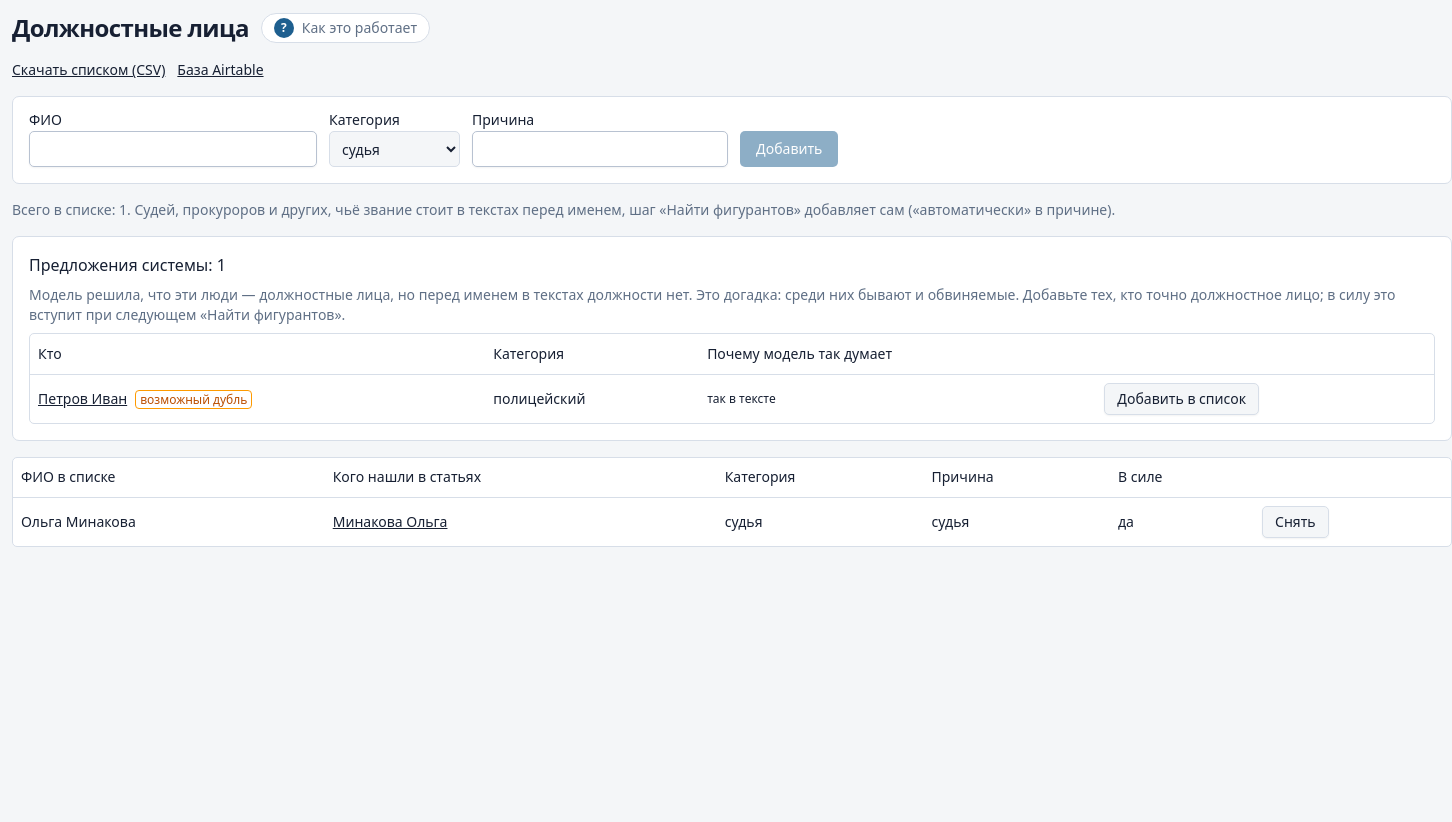
Test: adds a person with a category and a reason, and says a repeat
Type "Ольга Минакова" into the field labelled "ФИО" at (173, 149), box [29, 131, 317, 167]
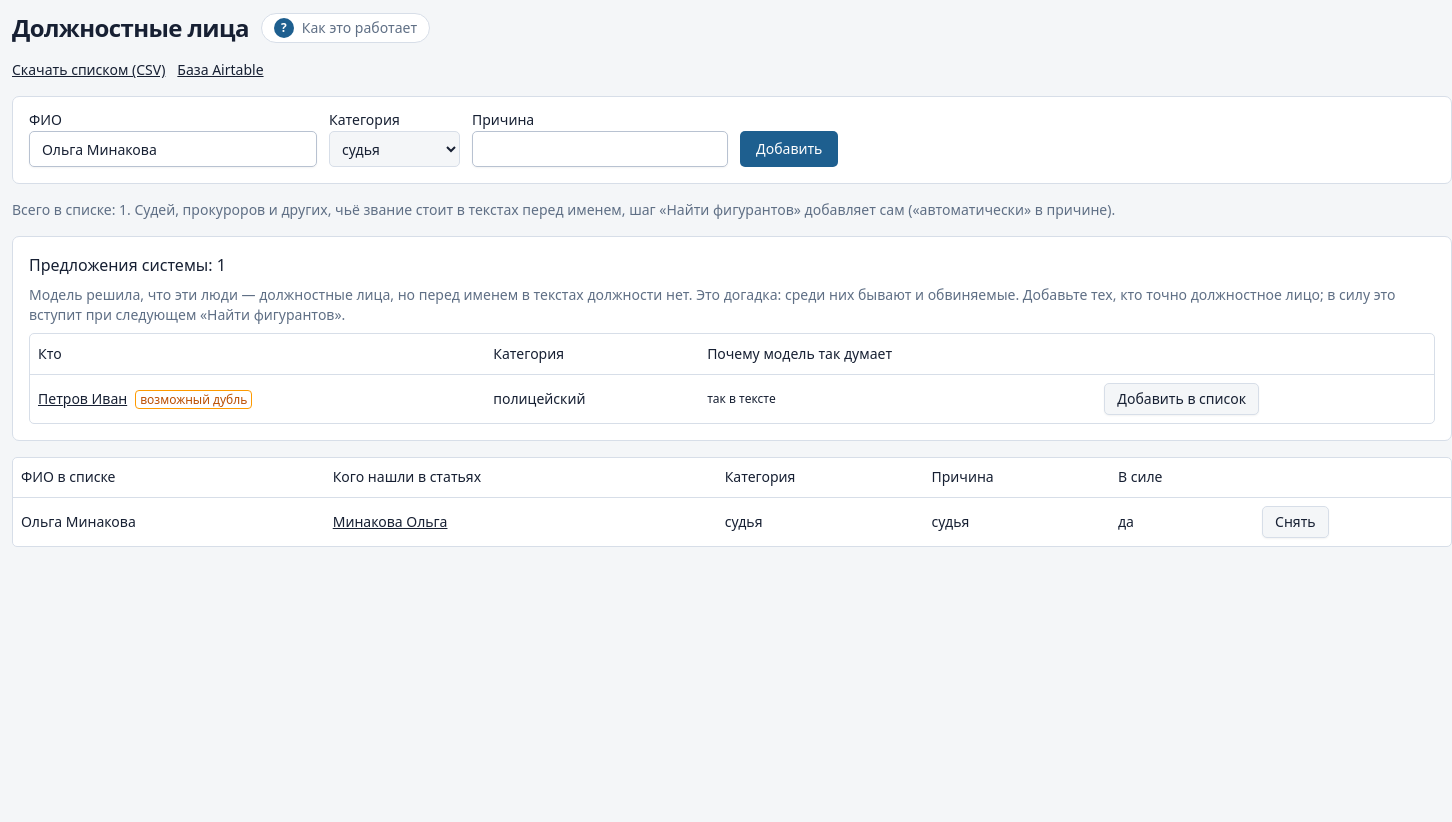
Select "полицейский" in the dropdown labelled "Категория" at (394, 149), box [329, 131, 460, 167]
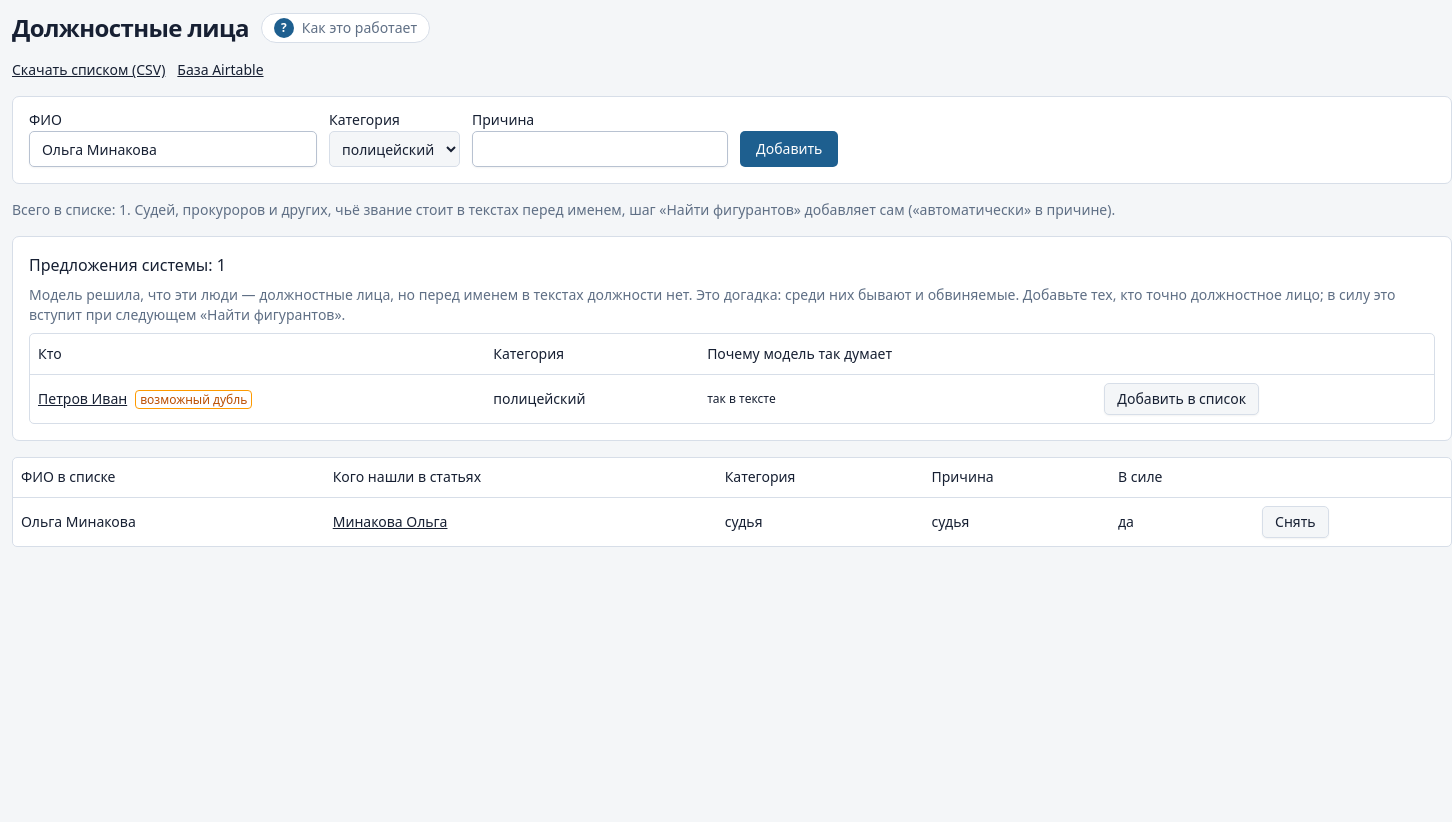
Type "следователь" into the field labelled "Причина" at (600, 149), box [472, 131, 728, 167]
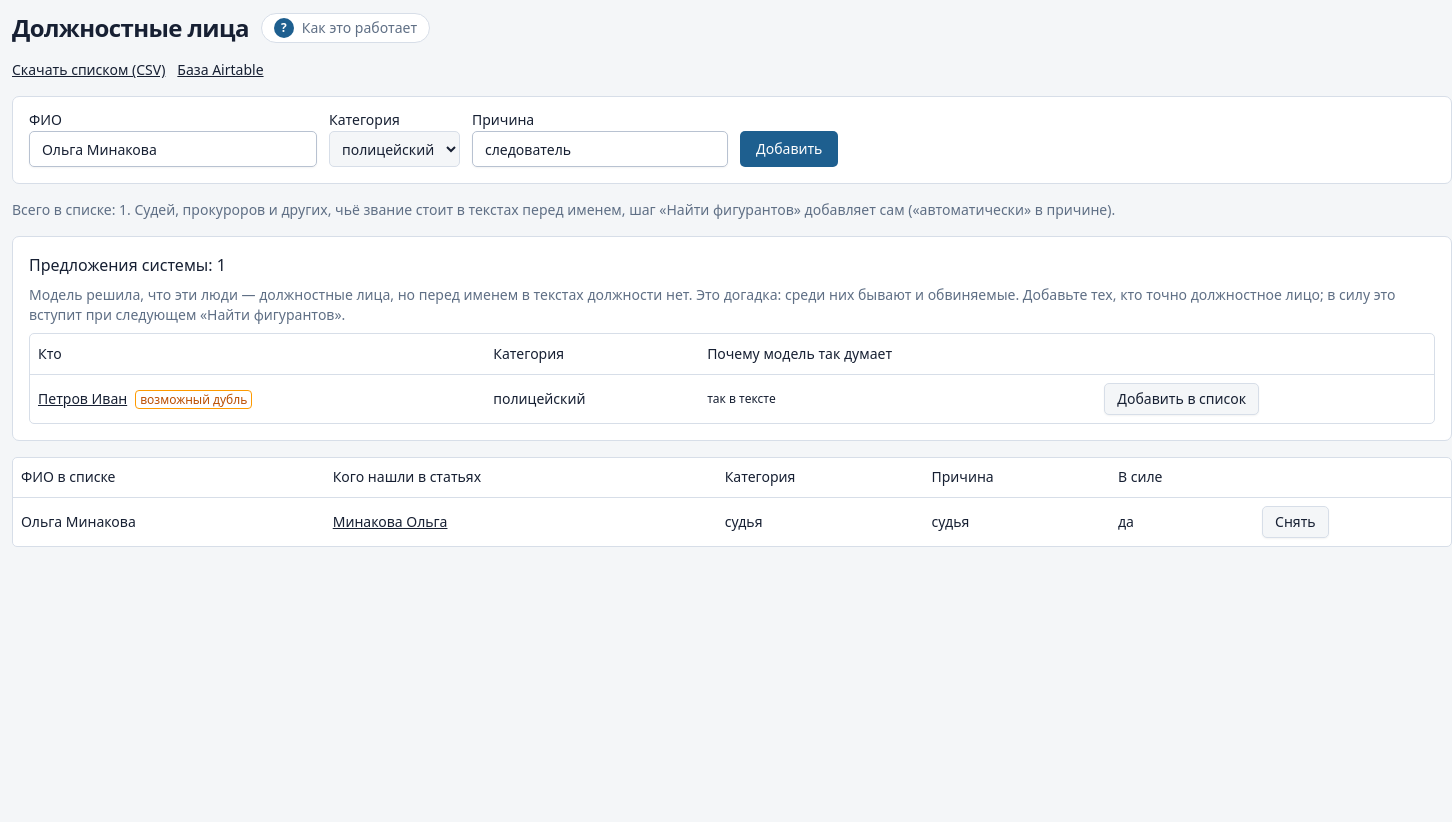
Click the button "Добавить" at (789, 149), box [740, 131, 838, 167]
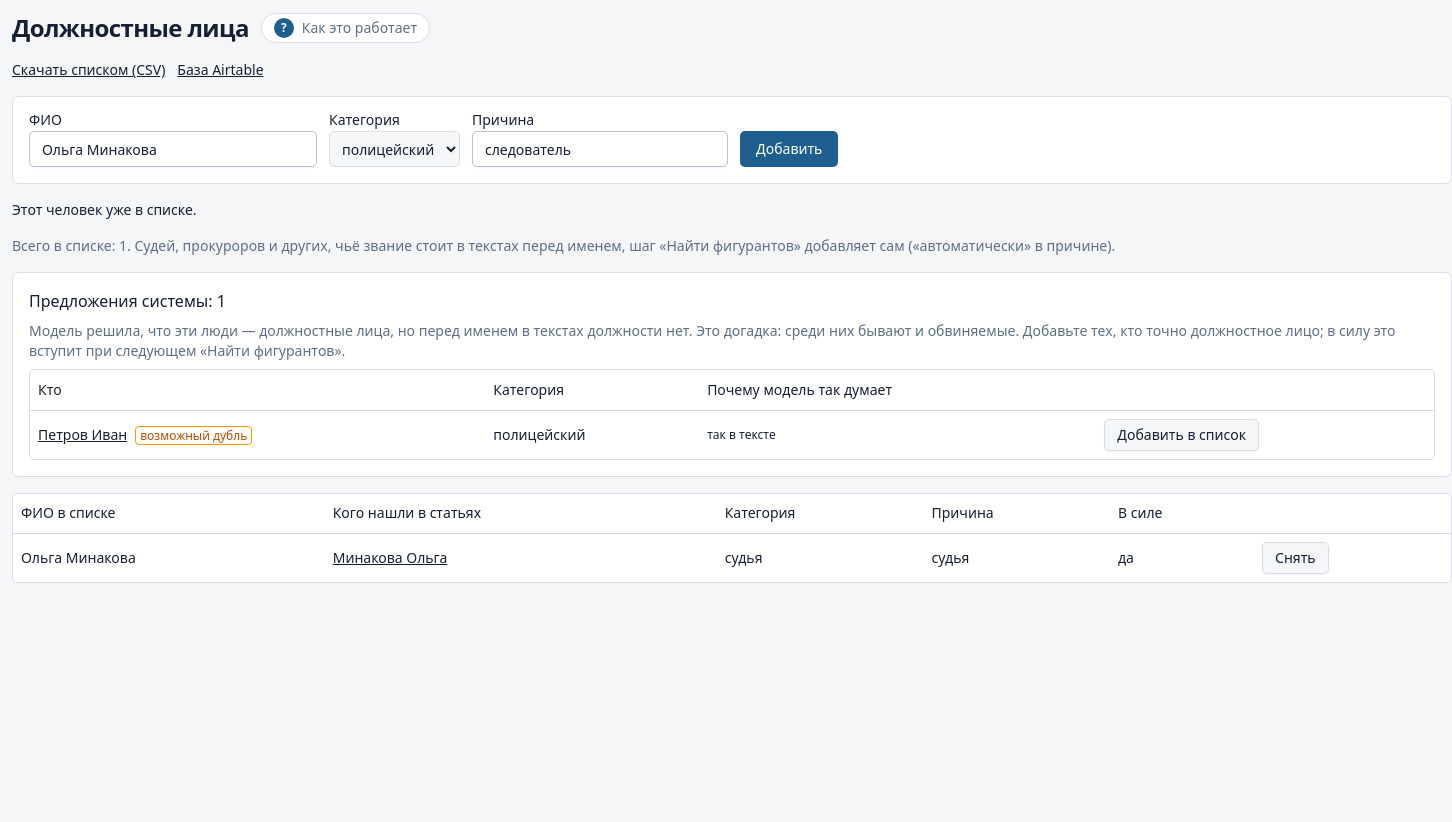
Expected: the text "Этот человек уже в списке." is shown, [12, 200, 197, 219]
